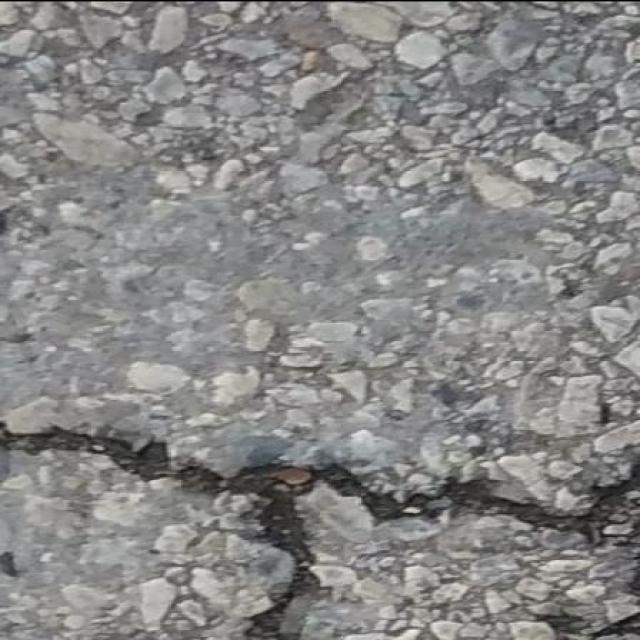Crack: (0, 431, 639, 640), (0, 210, 16, 246)
